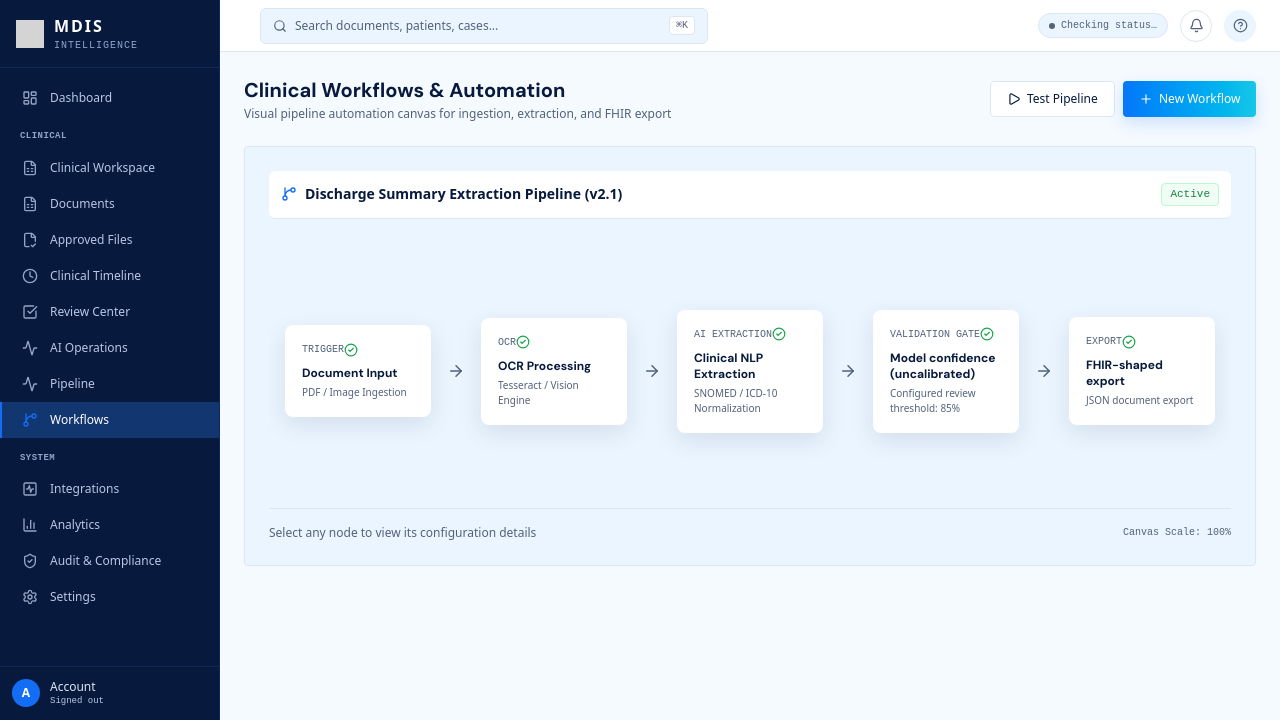
5. Workflows page › Test Pipeline shows info banner on click
What coordinates should you click on to do the following:
click the button "Test Pipeline"
I would click on:
 (1052, 99)
Its box is [990,81,1115,117].
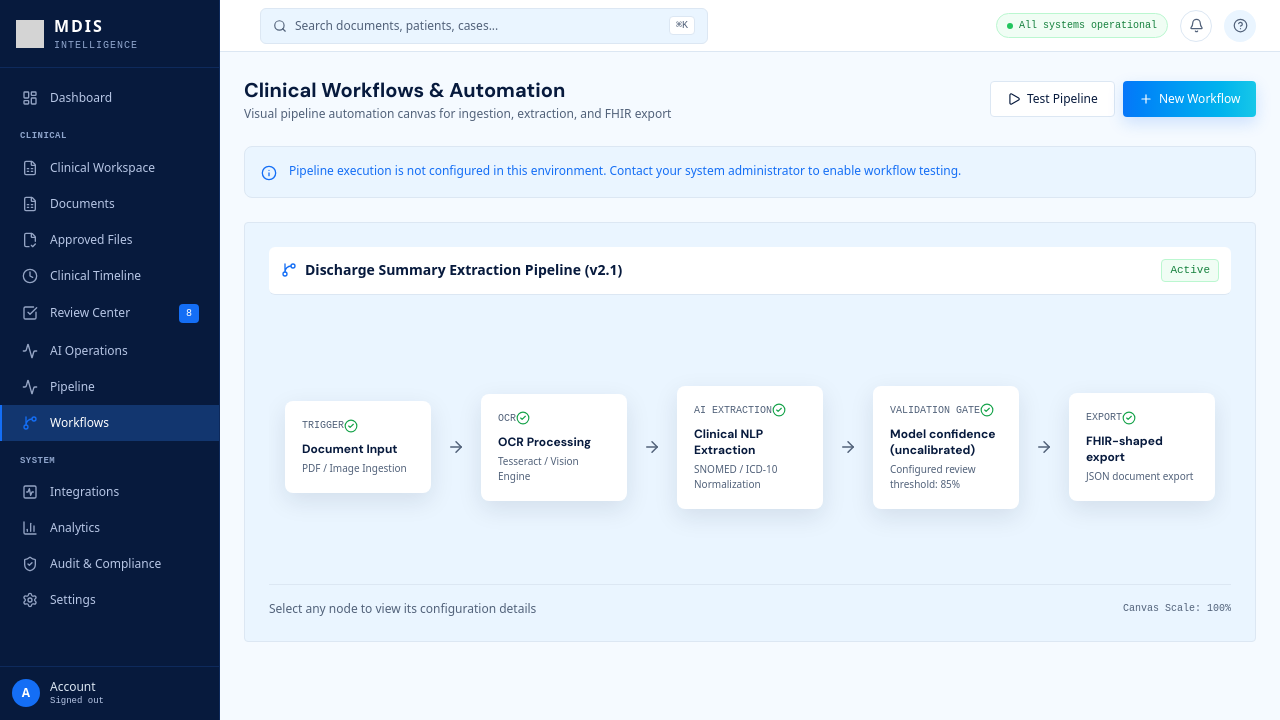
Result: the message is shown at [244,146,1256,198]
